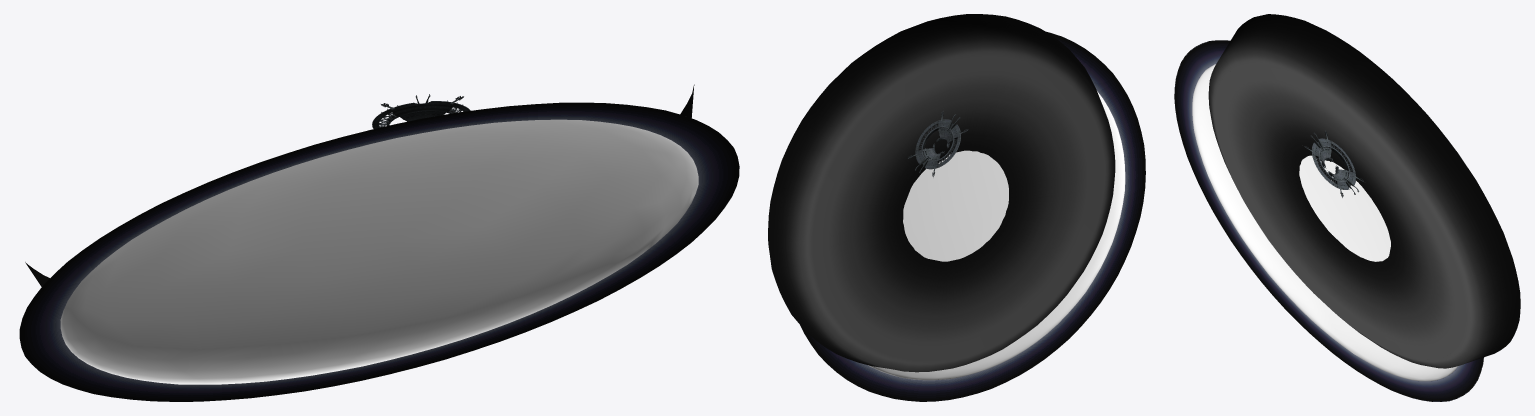
File: env_space_scarif_01_pre.glb
3 views of the same model, side by side, from view 1: azimuth 30°, elevation 25°; view 2: azimuth 150°, elevation 25°; view 3: azimuth 270°, elevation 25° (orthographic). The views are drawn at different scales.
Parts seen in each view (by area): view 1: planethoth_mesh, shield_gate_mesh; view 2: prop_planet_atmosphere_mesh, planethoth_mesh, shield_gate_mesh; view 3: prop_planet_atmosphere_mesh, planethoth_mesh, shield_gate_mesh.
Boxes of the visible parts, left/top/right/bottom form: planethoth_mesh: left=19, top=102, right=739, bottom=401; shield_gate_mesh: left=372, top=94, right=470, bottom=128; prop_planet_atmosphere_mesh: left=768, top=14, right=1115, bottom=372; planethoth_mesh: left=800, top=31, right=1145, bottom=401; shield_gate_mesh: left=907, top=111, right=968, bottom=177; prop_planet_atmosphere_mesh: left=1208, top=14, right=1520, bottom=368; planethoth_mesh: left=1174, top=40, right=1483, bottom=401; shield_gate_mesh: left=1304, top=130, right=1363, bottom=197.
Bounding box in the file's own units: 210 × 169 × 166.
6 materials, 5 textured.
